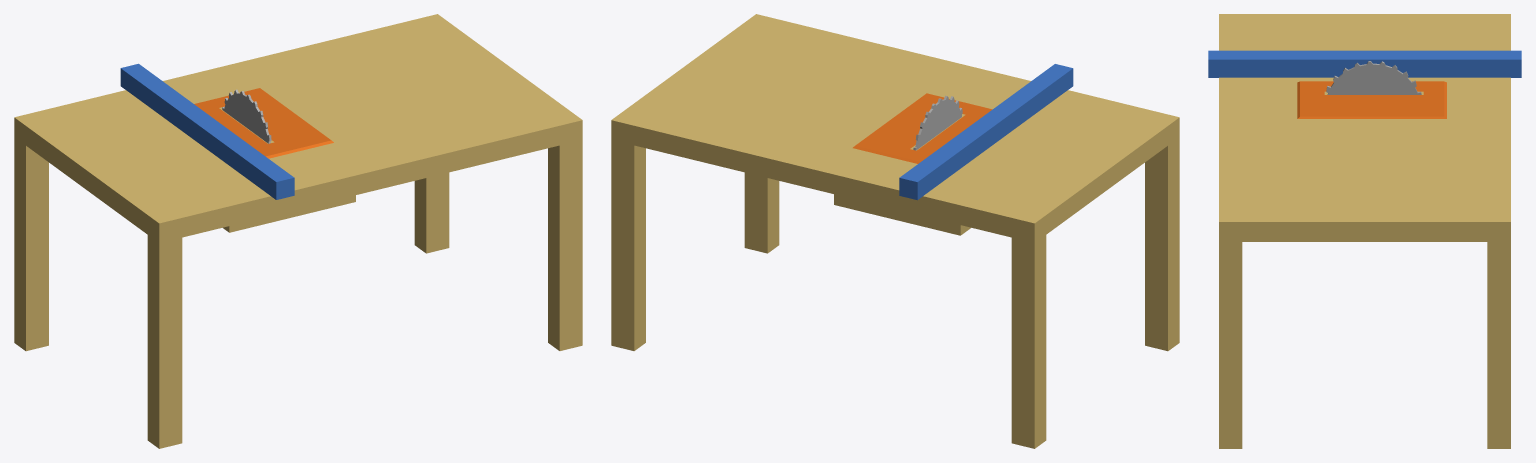
Rendered from SM_CuttingTable.FBX.
The picture shows the model from 3 angles, left to right: view 1: azimuth 30°, elevation 25°; view 2: azimuth 150°, elevation 25°; view 3: azimuth 270°, elevation 25°; orthographic projection.
Parts seen in each view (by area): view 1: CuttingTable; view 2: CuttingTable; view 3: CuttingTable.
Boxes of the visible parts, x1,y1,x2,y2 form: CuttingTable: (14,14,582,448); CuttingTable: (611,14,1179,448); CuttingTable: (1208,14,1521,448).
Size of the model in its own units: 67.44 by 39.39 by 42.96.
